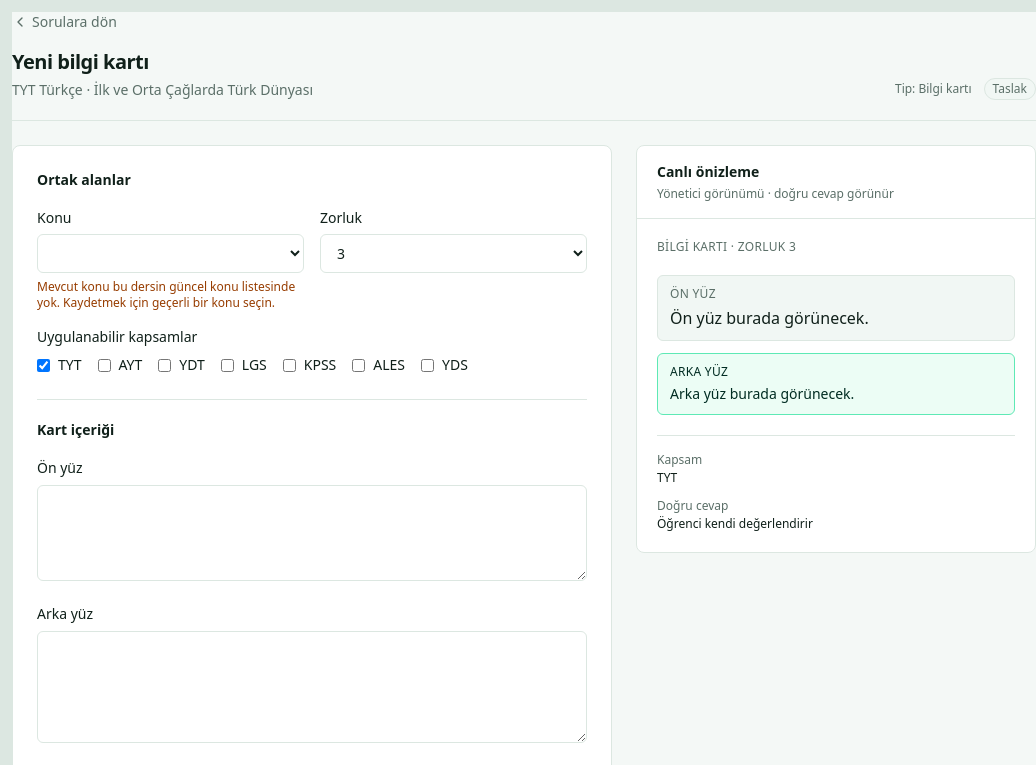
flashcard editor › shows both faces in the live preview
Expected: the heading "Yeni bilgi kartı" is shown, [12,48,149,74]
Type "Kut" into the text box labelled "Ön yüz" at (312, 532), box [37,484,587,580]
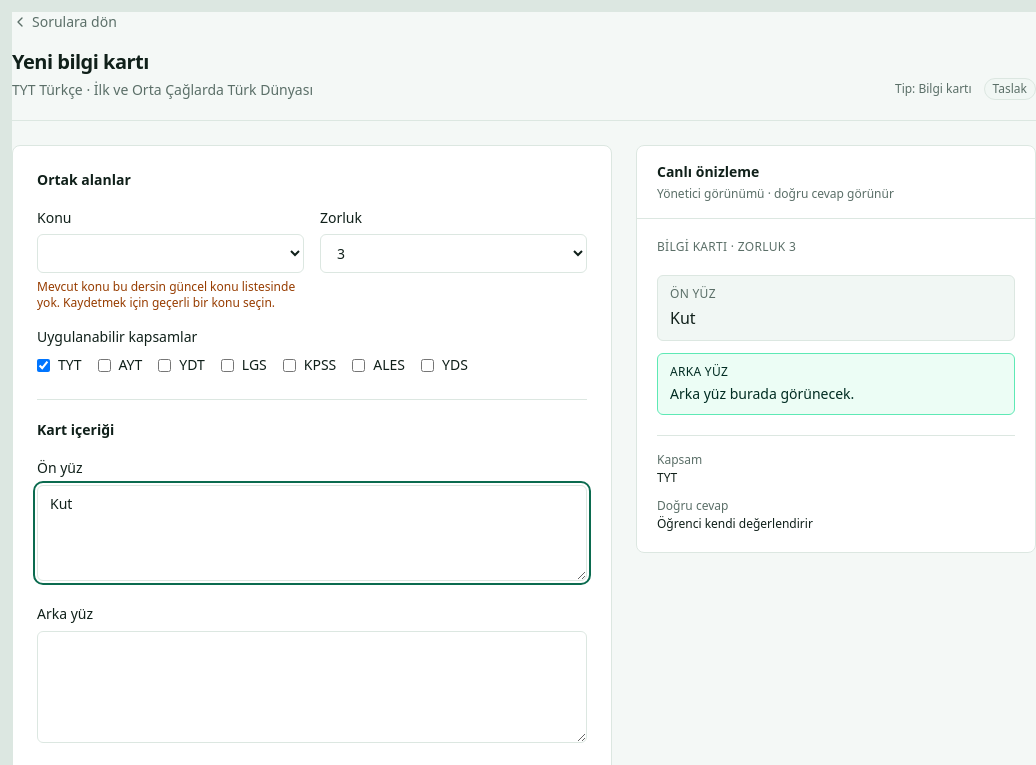
Type "Tanım metni" into the text box labelled "Arka yüz" at (312, 686), box [37,630,587,742]
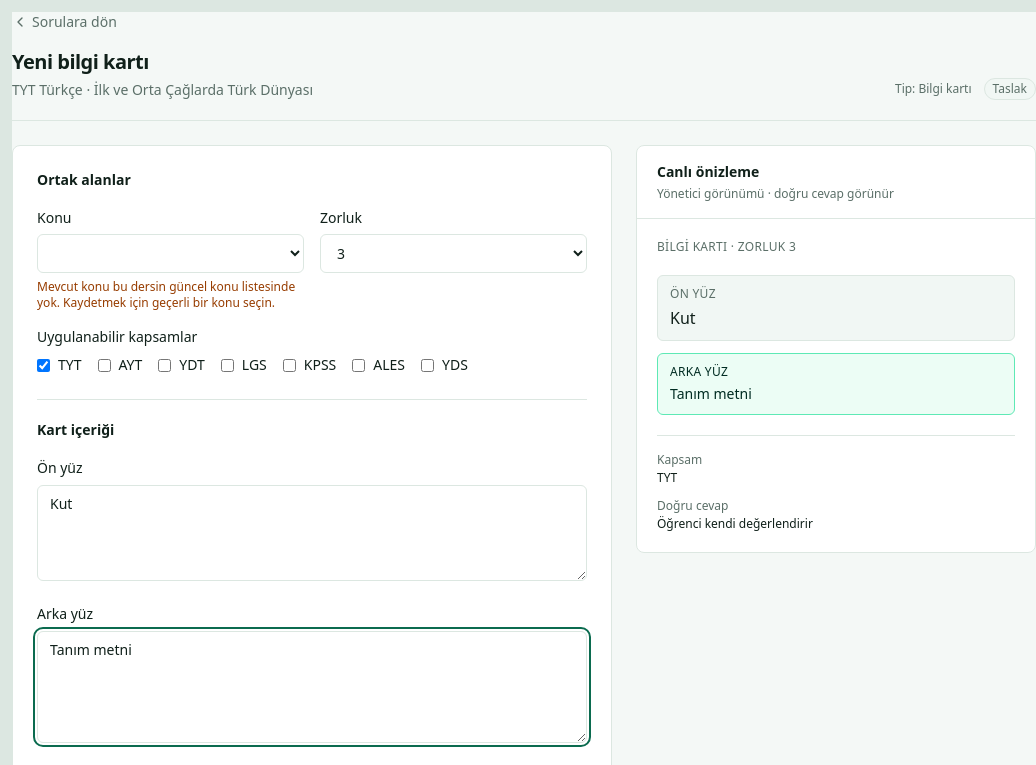
Expected: the element labelled "Canlı önizleme" shows "Ön yüz", [670,284,716,302]
Now the element labelled "Canlı önizleme" shows "Kut", box [670,306,696,328]
Now the element labelled "Canlı önizleme" shows "Tanım metni", box [670,384,752,402]
